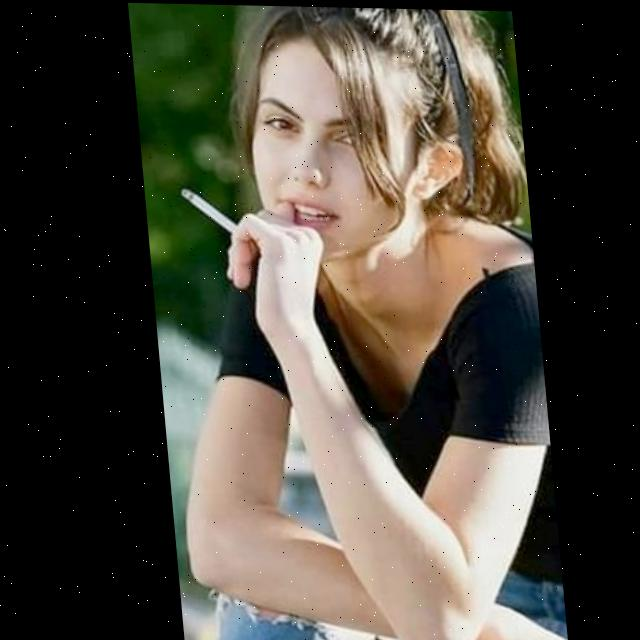cigarette: (176, 189, 235, 232)
